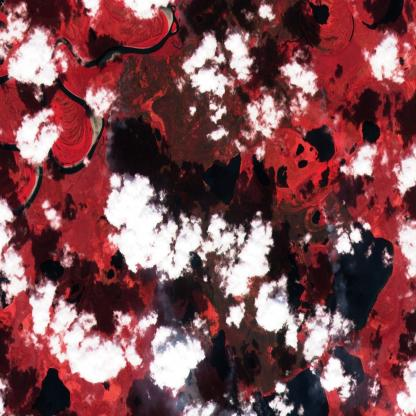fire: (140, 269, 264, 409), (96, 43, 136, 190), (310, 190, 340, 286), (308, 69, 335, 120)
